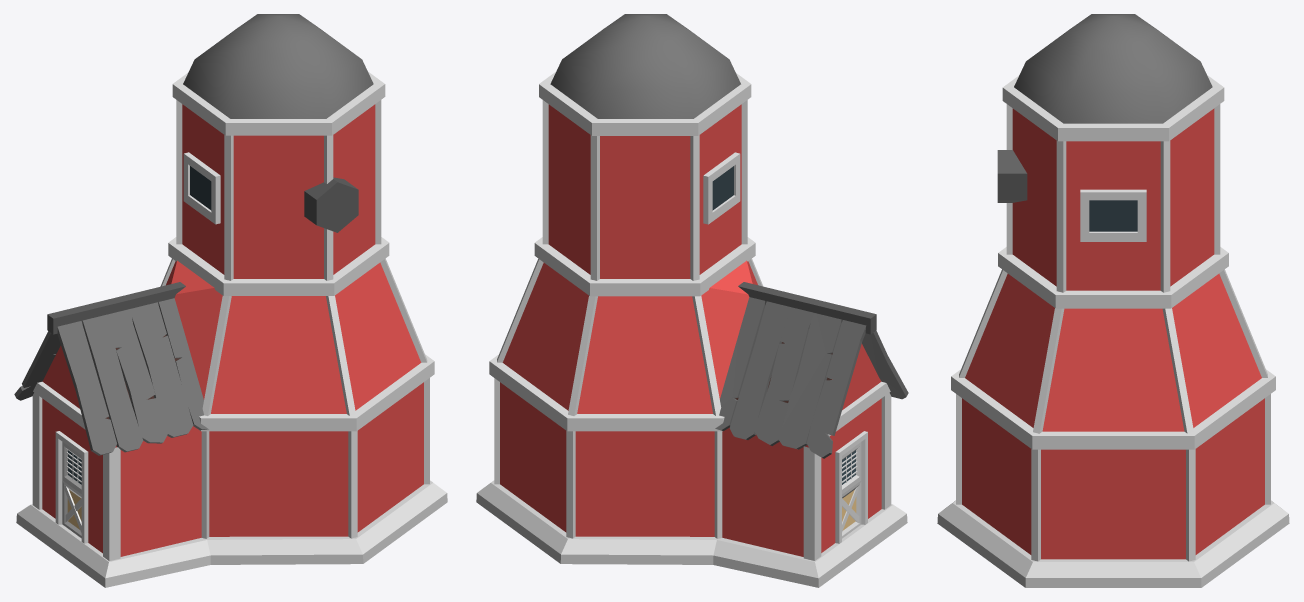
File: tower_001.glb
3 views of the same model, side by side, from view 1: azimuth 30°, elevation 25°; view 2: azimuth 150°, elevation 25°; view 3: azimuth 270°, elevation 25° (orthographic). The views are drawn at different scales.
Parts seen in each view (by area): view 1: tower_001; view 2: tower_001; view 3: tower_001.
Part boxes in pixels (x1,y1,x2,y2): tower_001: (14, 14, 447, 587); tower_001: (476, 14, 908, 587); tower_001: (937, 14, 1289, 587).
Size of the model in its own units: 8.18 by 10.7 by 6.74.
Materials: 1 (1 with a texture image).
